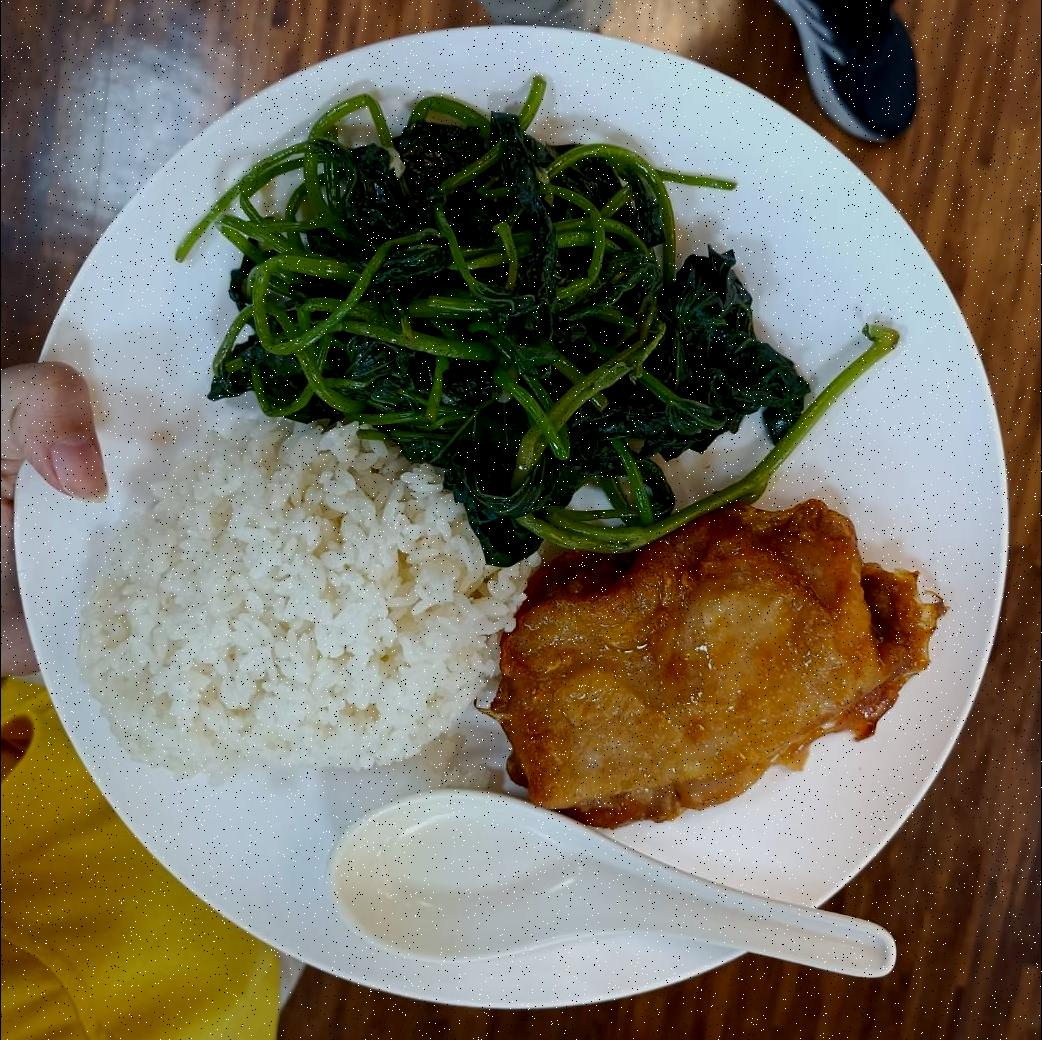big fried chicken leg: (14, 25, 1021, 1013)
big herbal chicken leg: (81, 411, 522, 783)
braised fish fillet: (165, 79, 909, 547)
braised pork: (496, 497, 941, 828)
